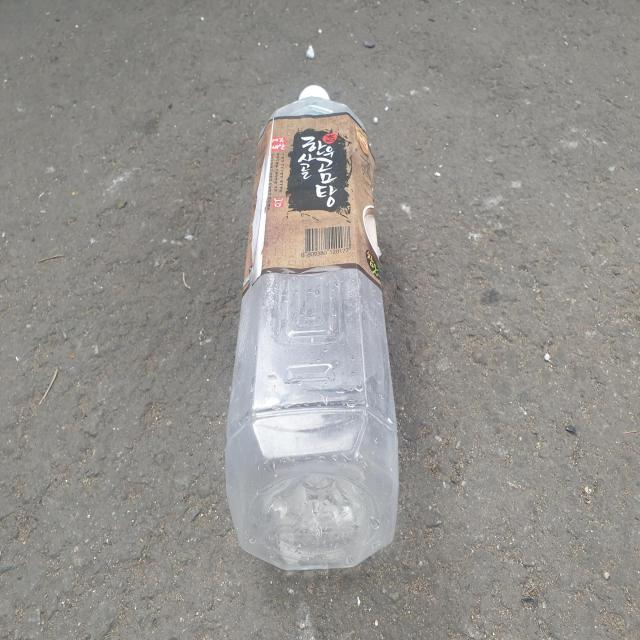plastic: (226, 84, 398, 571)
